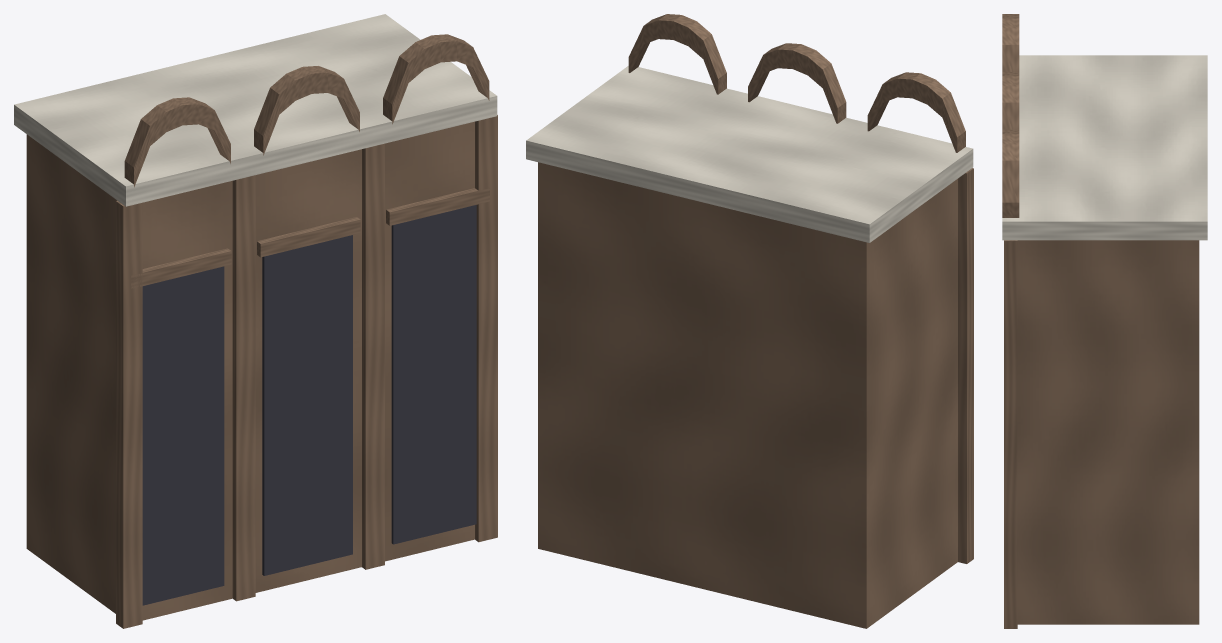
Rendered from vampire-crypt-and-gothic-cathedral-confessional-bc4f0b66__23004.glb.
3 renders of one model, left to right at view 1: azimuth 30°, elevation 25°; view 2: azimuth 150°, elevation 25°; view 3: azimuth 270°, elevation 25°, orthographic. The views are drawn at different scales.
Visible parts, largest first — view 1: confessional; view 2: confessional; view 3: confessional.
Boxes of the visible parts, <box> form: confessional: <box>14,14,497,628</box>; confessional: <box>526,14,973,628</box>; confessional: <box>1002,14,1207,628</box>.
Size of the model in its own units: 2.32 by 3.02 by 1.2.
Materials: 4 (3 with a texture image).
